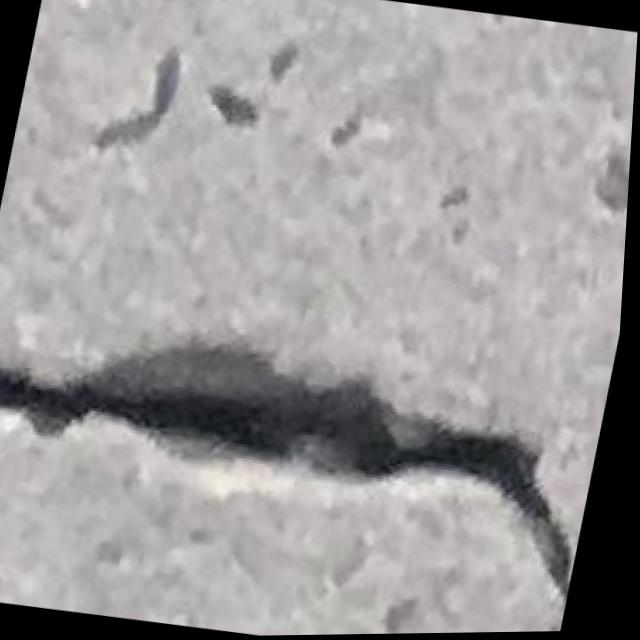Crack: (0, 306, 613, 617)
